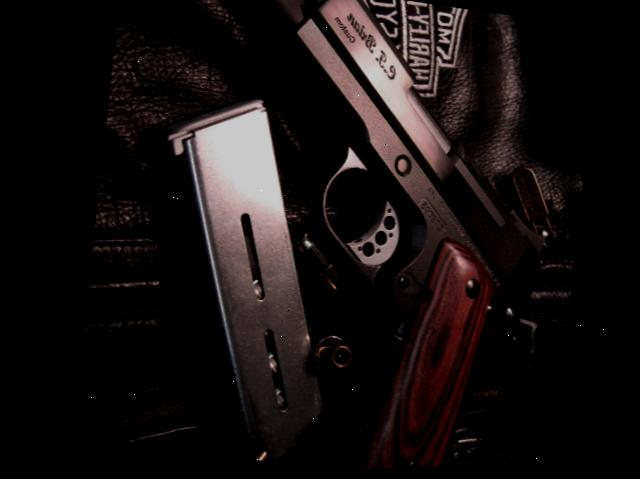pistol: (126, 0, 596, 476)
